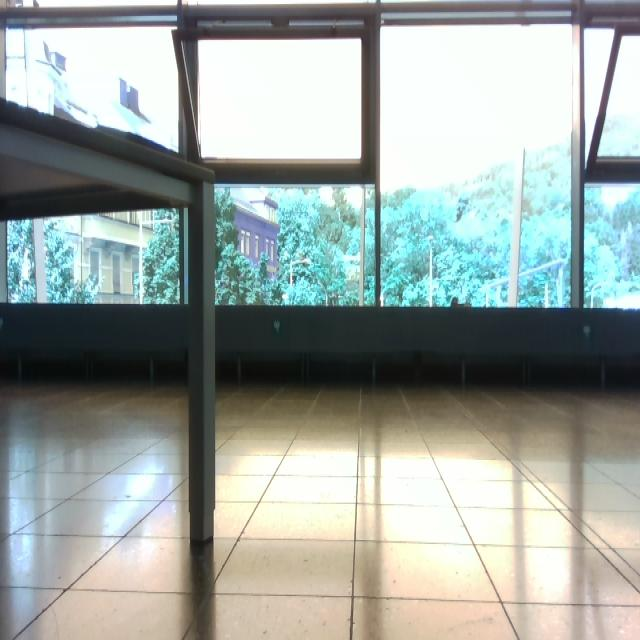light bulb: (290, 259, 311, 287)
tiled floor: (2, 379, 639, 639)
window: (379, 18, 576, 309), (4, 14, 183, 156)
